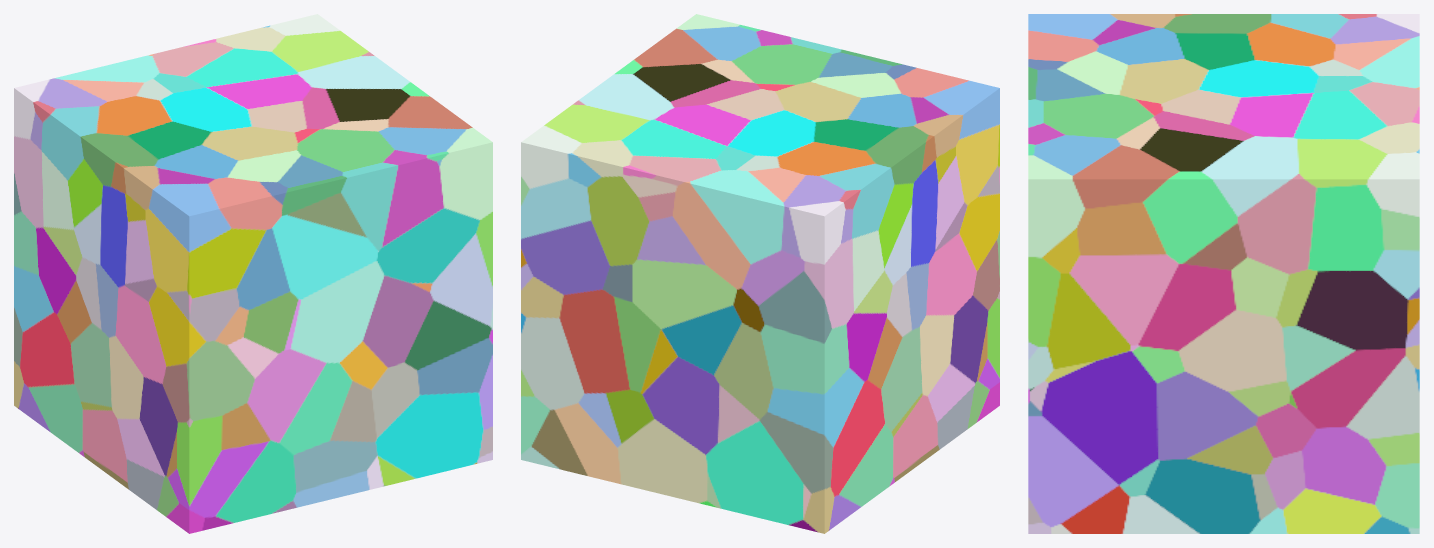
The picture shows the model from 3 angles, left to right: view 1: azimuth 30°, elevation 25°; view 2: azimuth 150°, elevation 25°; view 3: azimuth 270°, elevation 25°; orthographic projection. The views are drawn at different scales.
Parts seen in each view (by area): view 1: Cube; view 2: Cube; view 3: Cube.
Part boxes in pixels (x1,y1,x2,y2): Cube: (14,14,492,533); Cube: (521,14,999,533); Cube: (1028,14,1419,533).
Size of the model in its own units: 2 by 2 by 2.
1 material, 1 textured.
